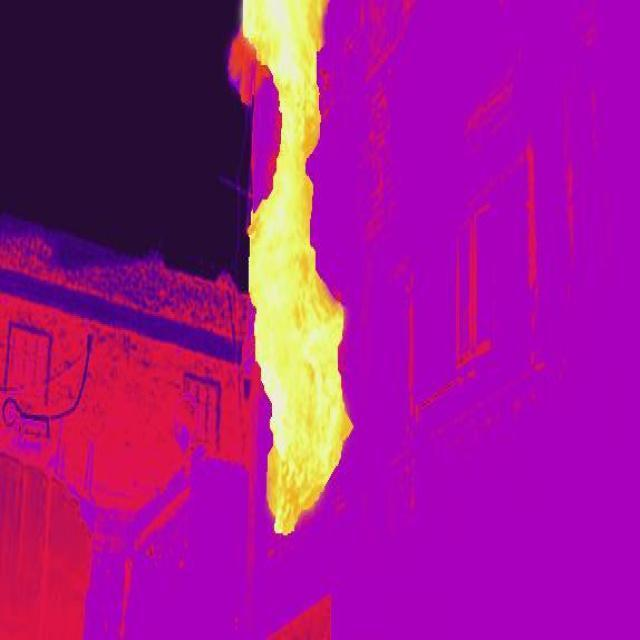fire: (240, 1, 357, 543)
